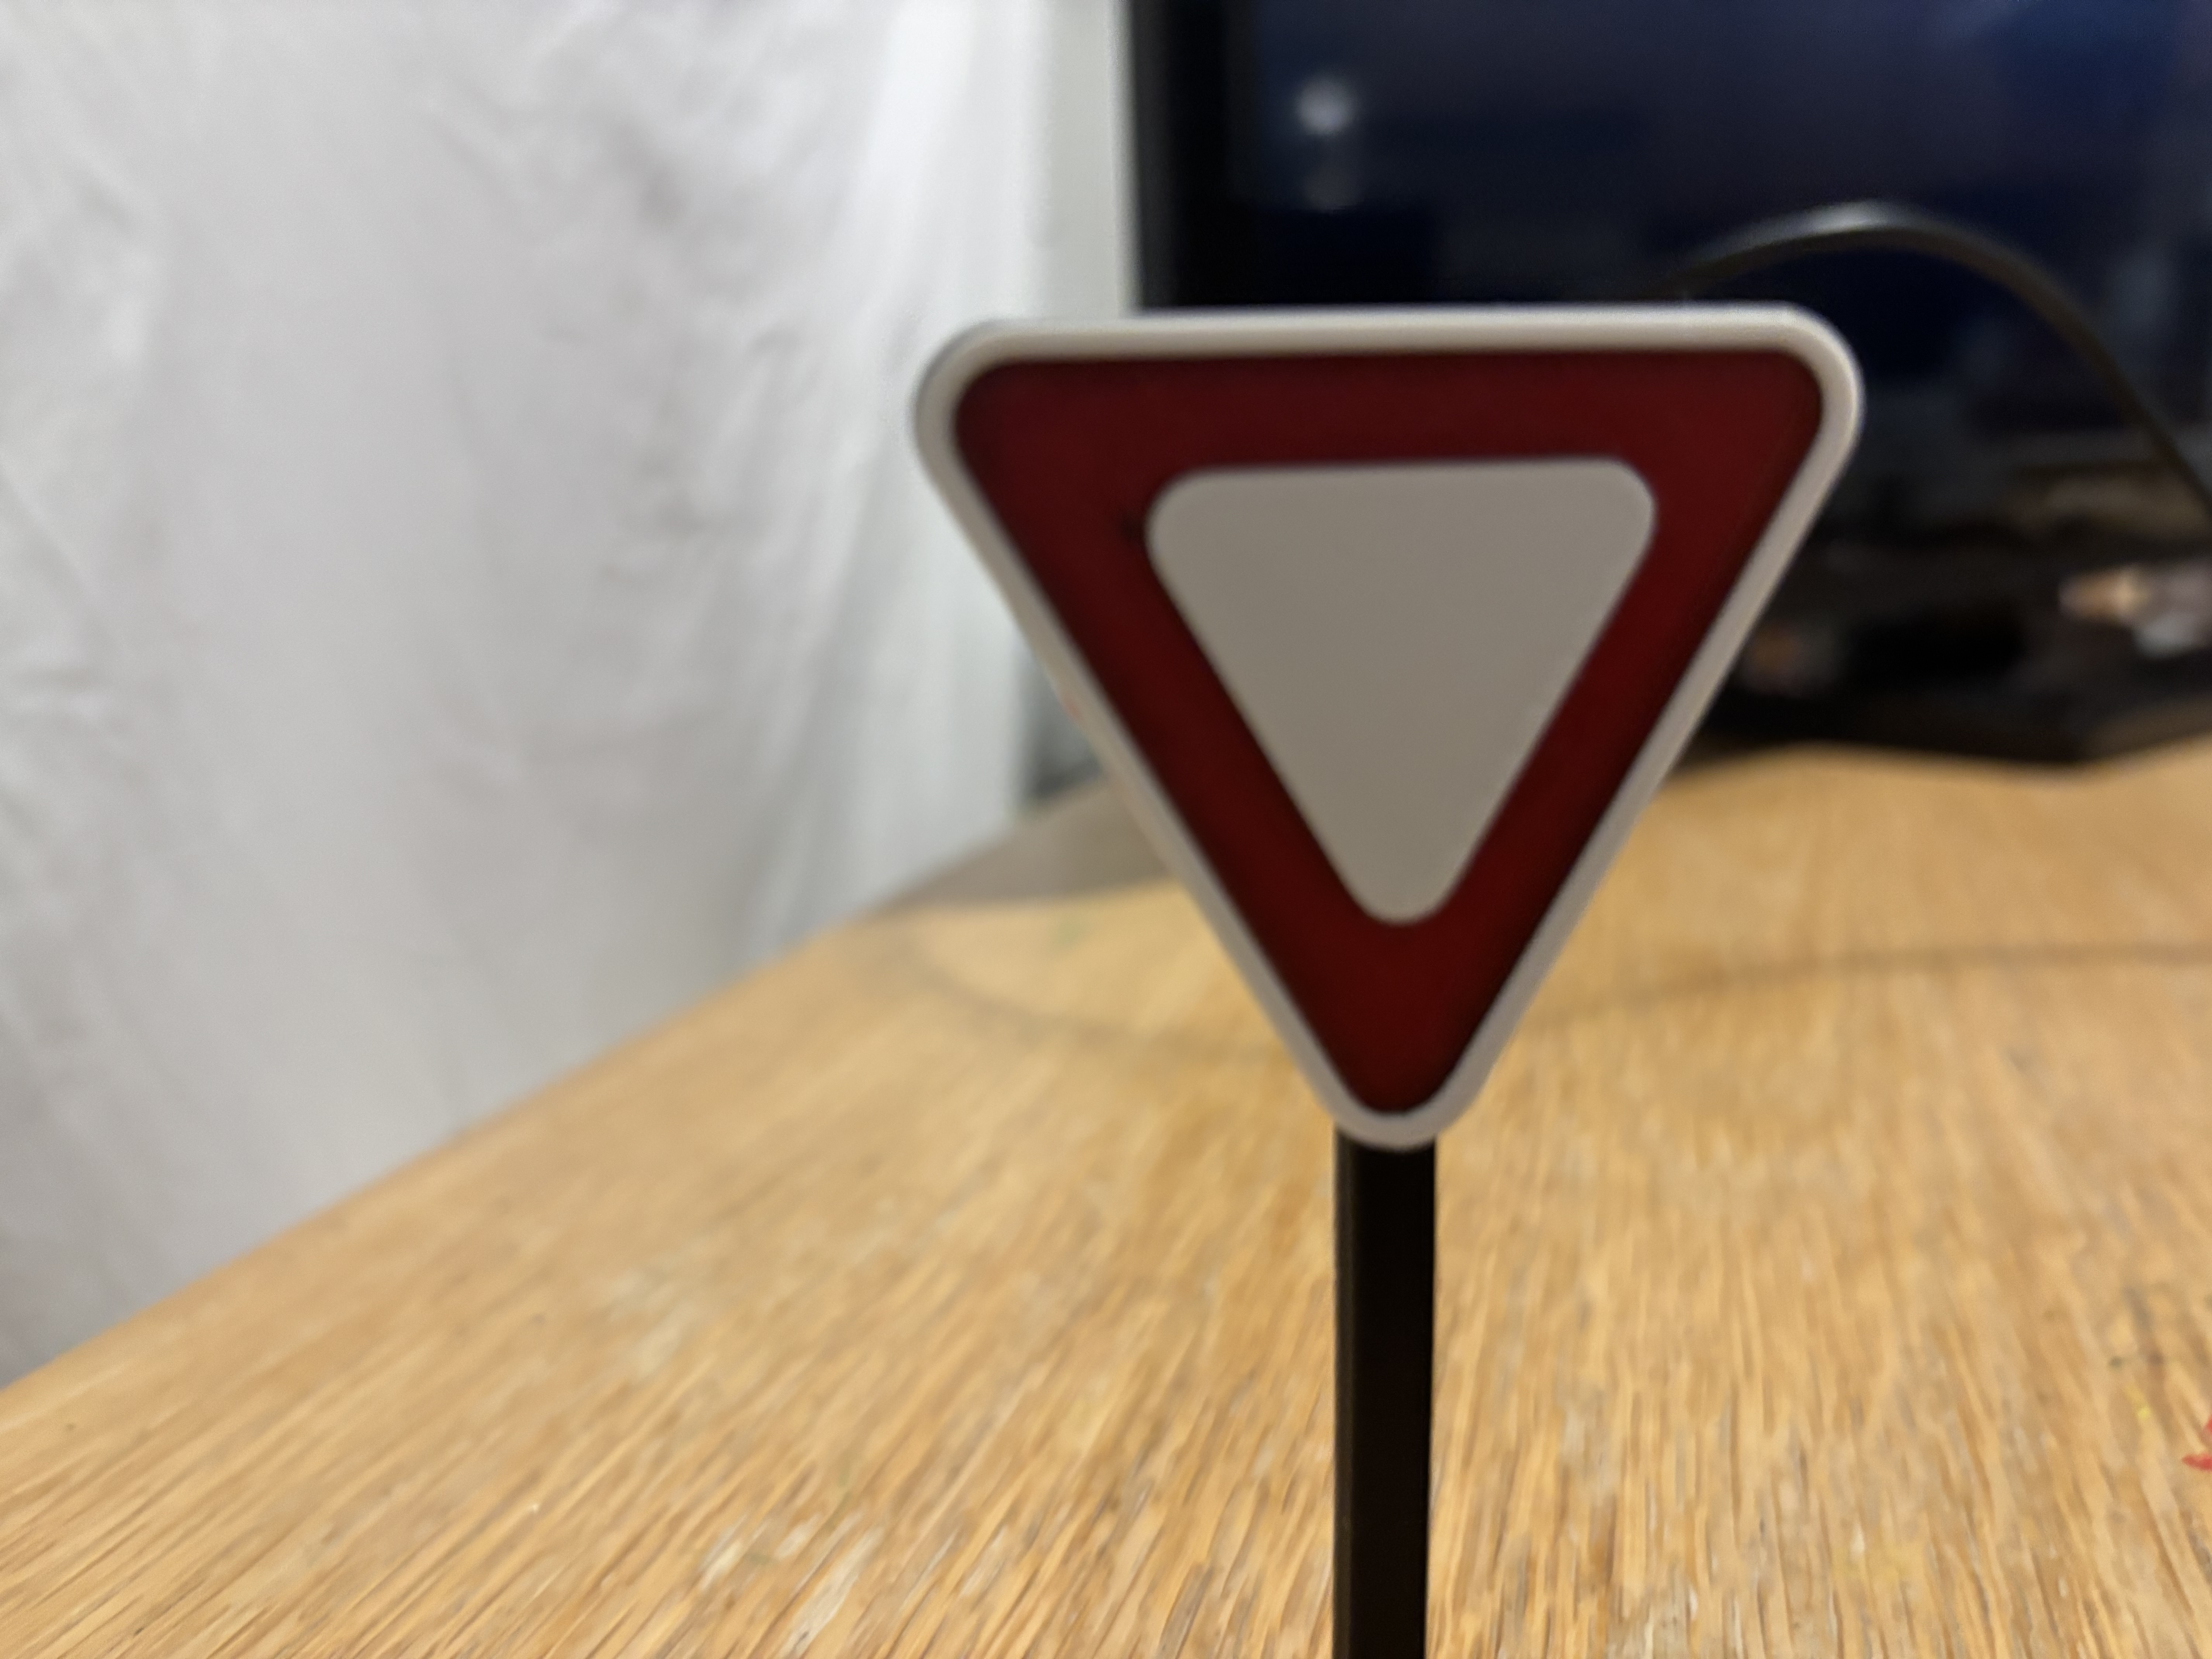sign_yield: (845, 298, 1858, 1131)
